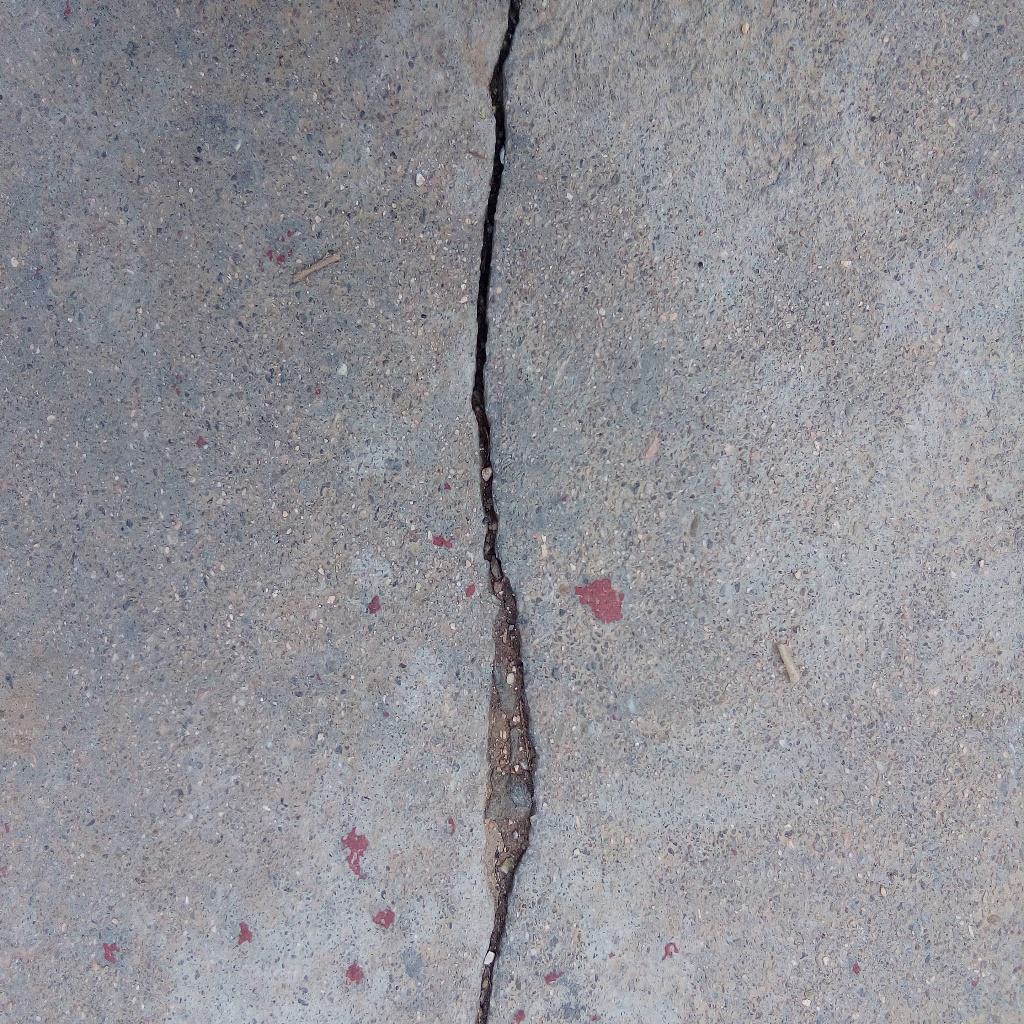Crack: (467, 1, 540, 1024)
